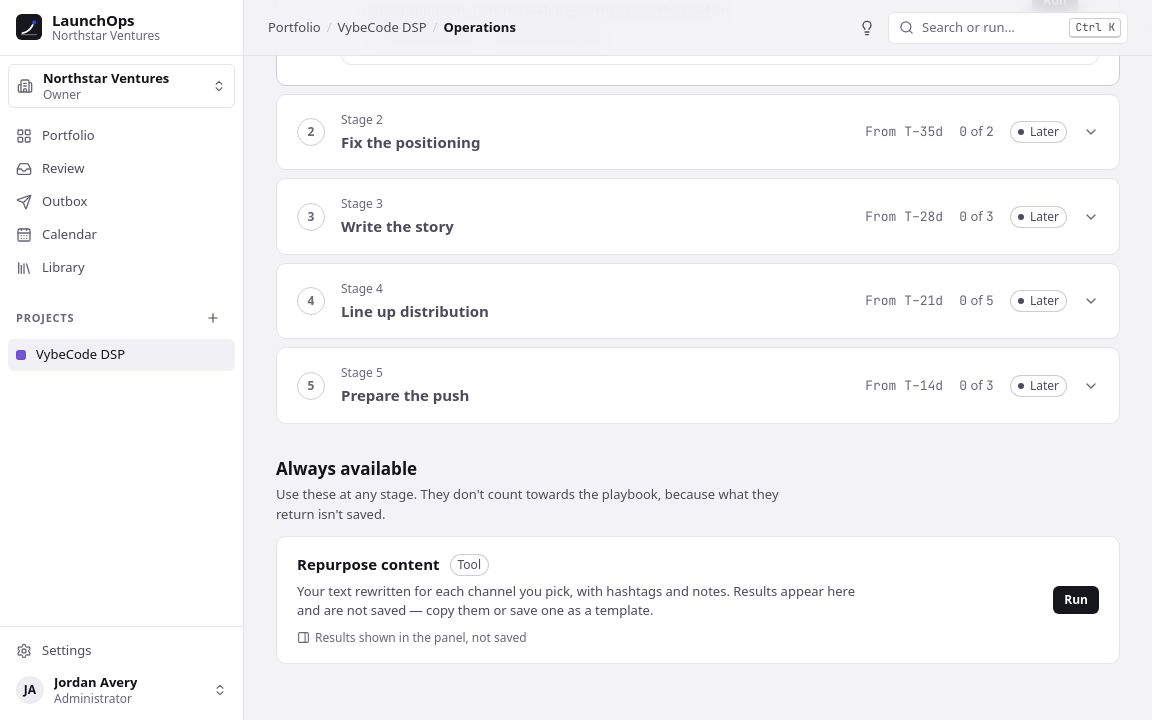
Test: The launch playbook › shows the stage to work on, and keeps the others one click away
(page scrolled)
Expected: the text "Ad copy variants" is not shown
Click the button "5 Stage 5 Prepare the push From T–14d 0 of 3 Later". click: (358, 373)
box: [277,348,1119,423]
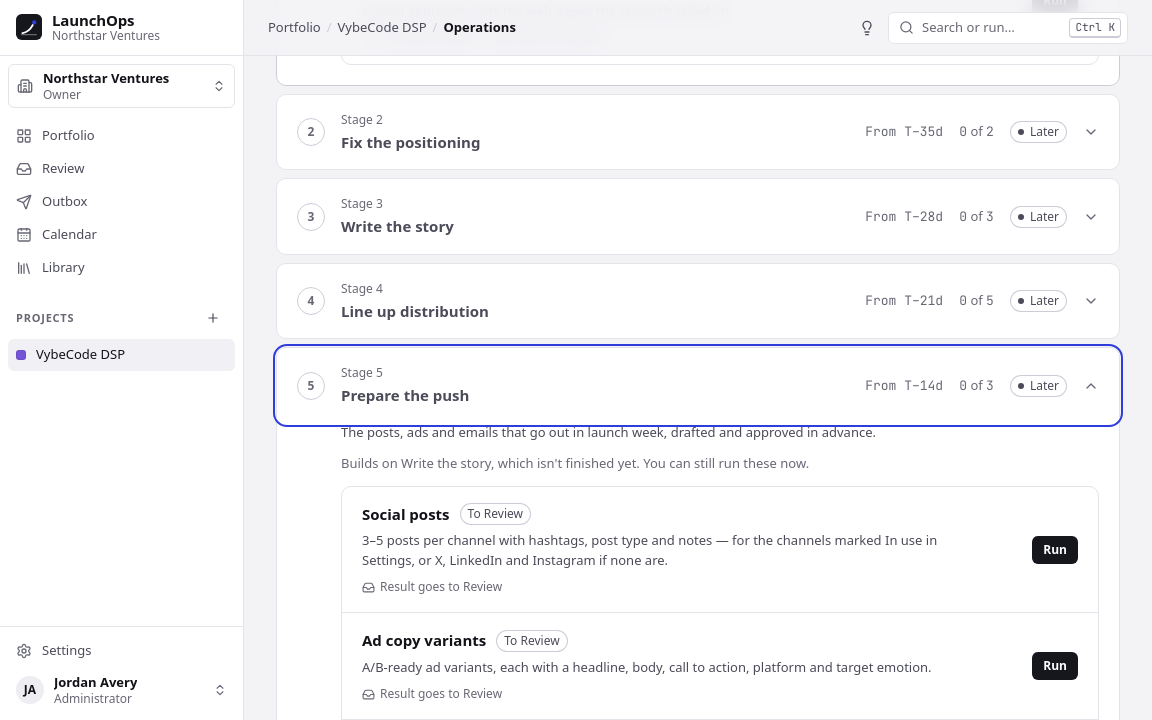
Expected: the text "Ad copy variants" is shown, [362,630,486,650]
